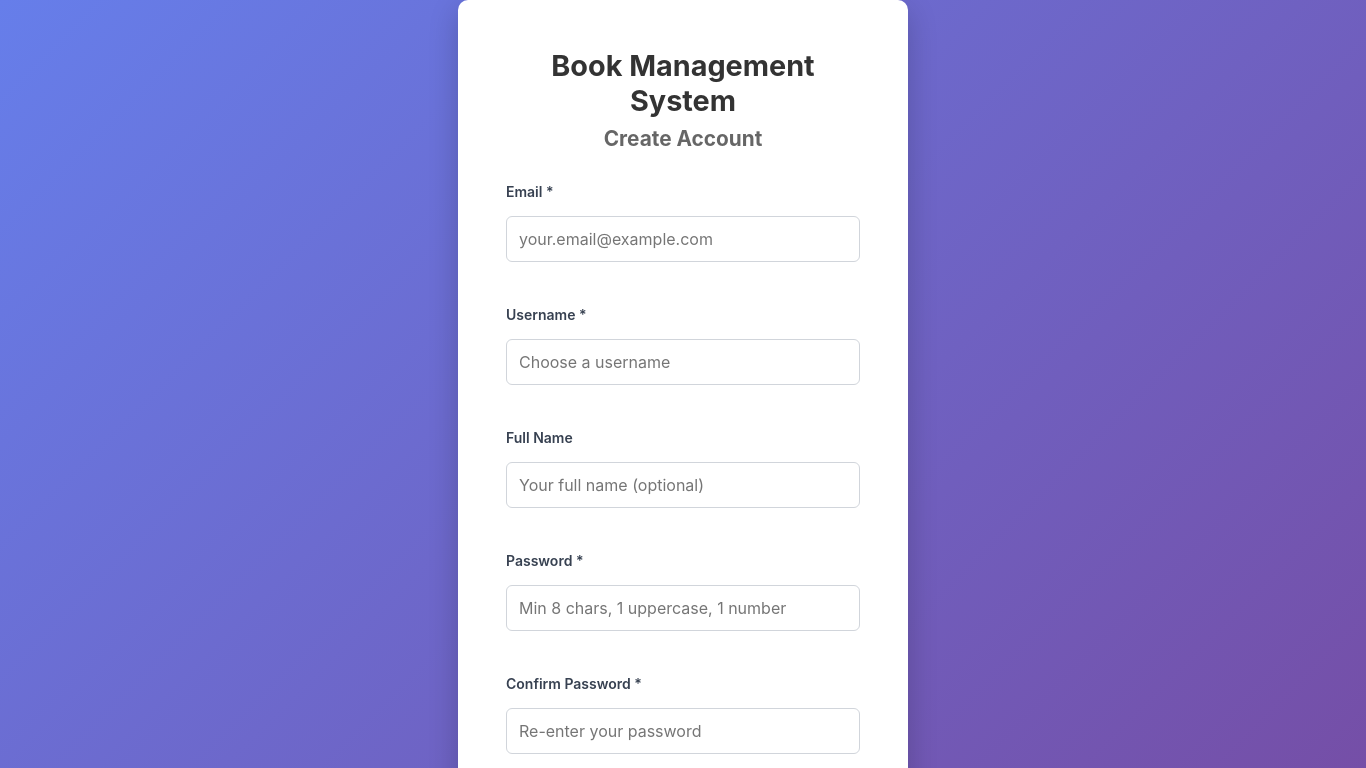
it: Register Component › should validate password length
Step 1. Type "test@example.com" into the field labelled "Email *" → {"x": 683, "y": 239}, box 506,216 -> 860,262
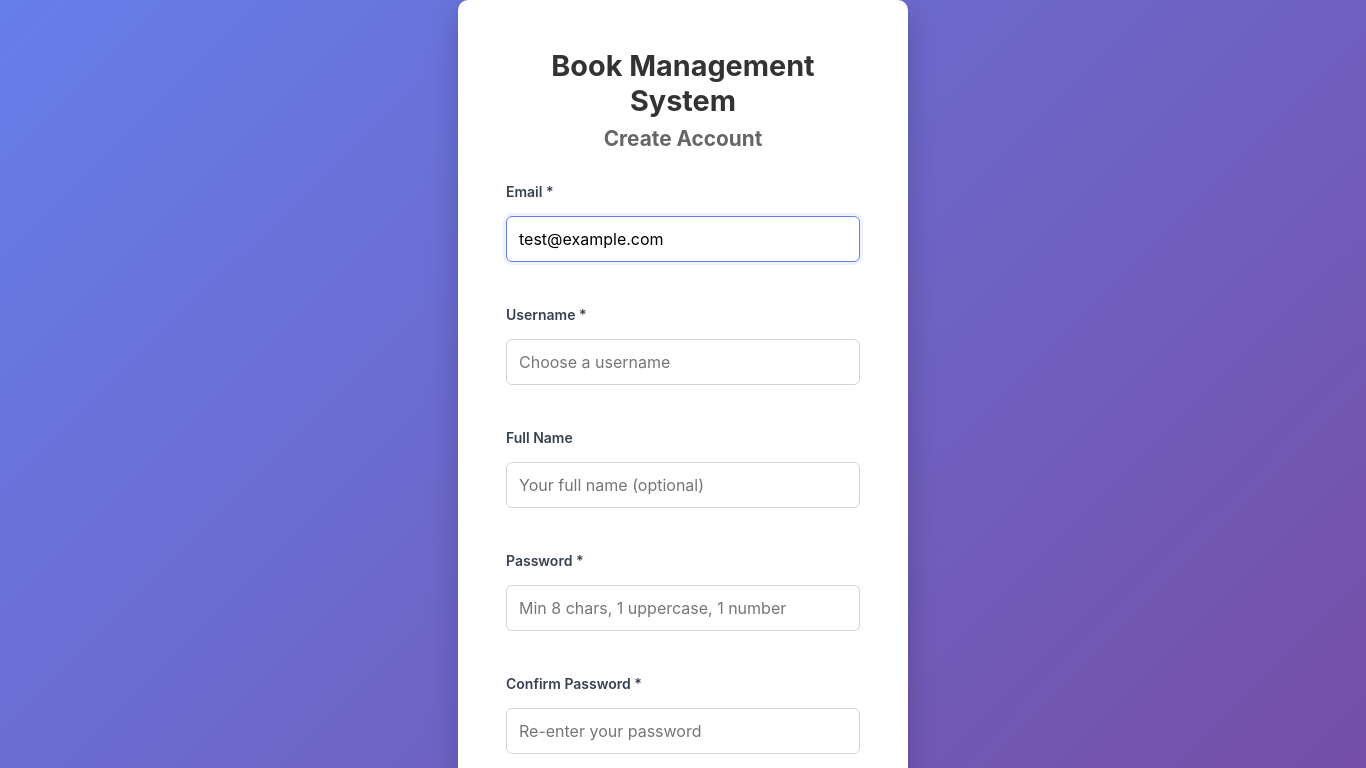
Step 2. Type "testuser" into the field labelled "Username *" → {"x": 683, "y": 362}, box 506,339 -> 860,385
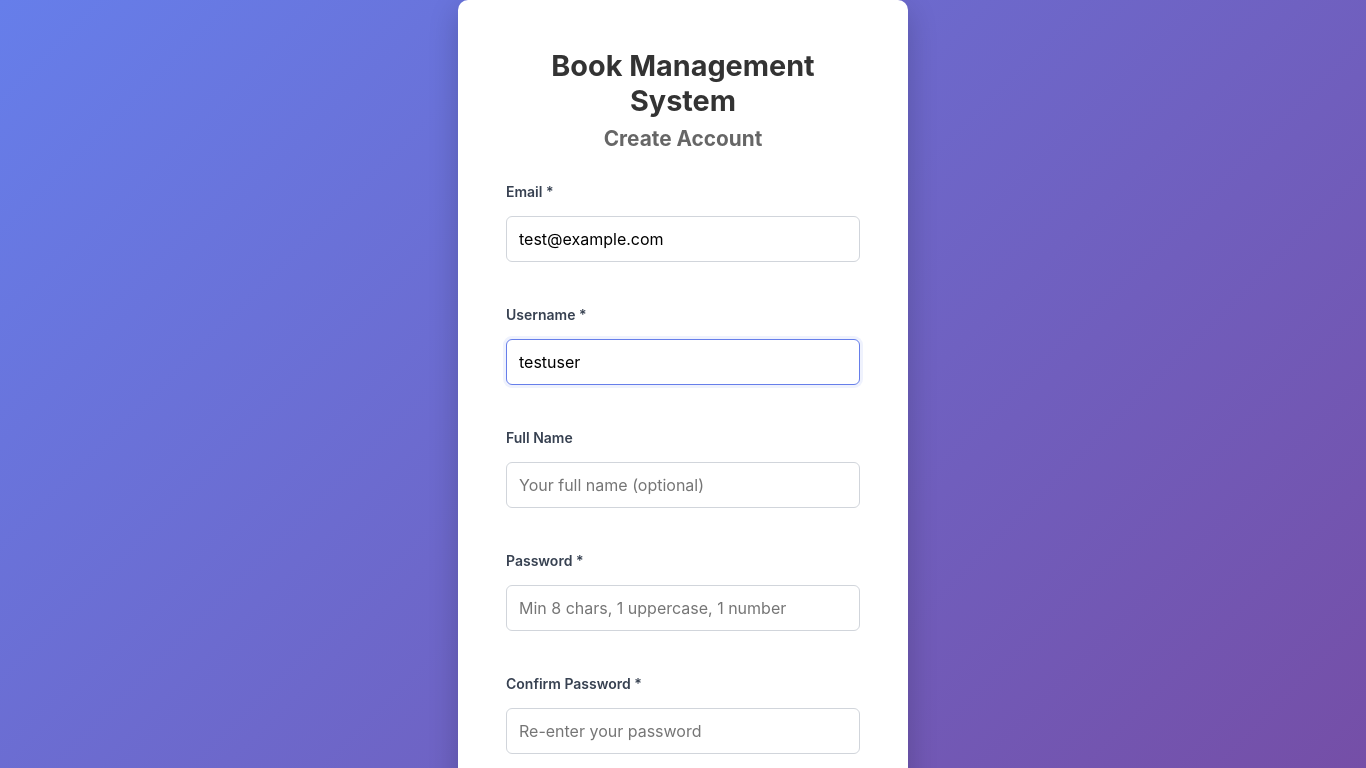
Step 3. Type "Pass1" into the password field labelled "Password *" → {"x": 683, "y": 608}, box 506,585 -> 860,631
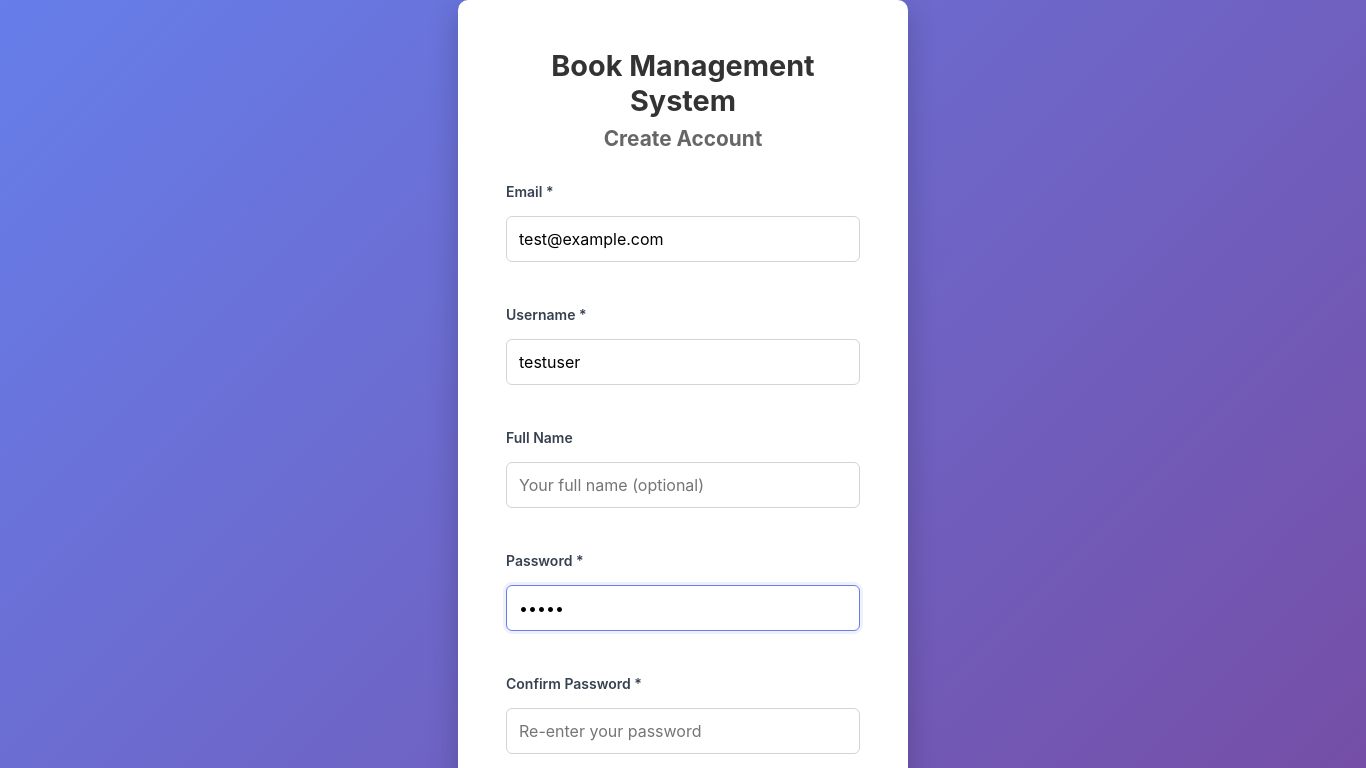
Step 4. Type "Pass1" into the password field labelled "Confirm Password *" → {"x": 683, "y": 731}, box 506,708 -> 860,754
(page scrolled)
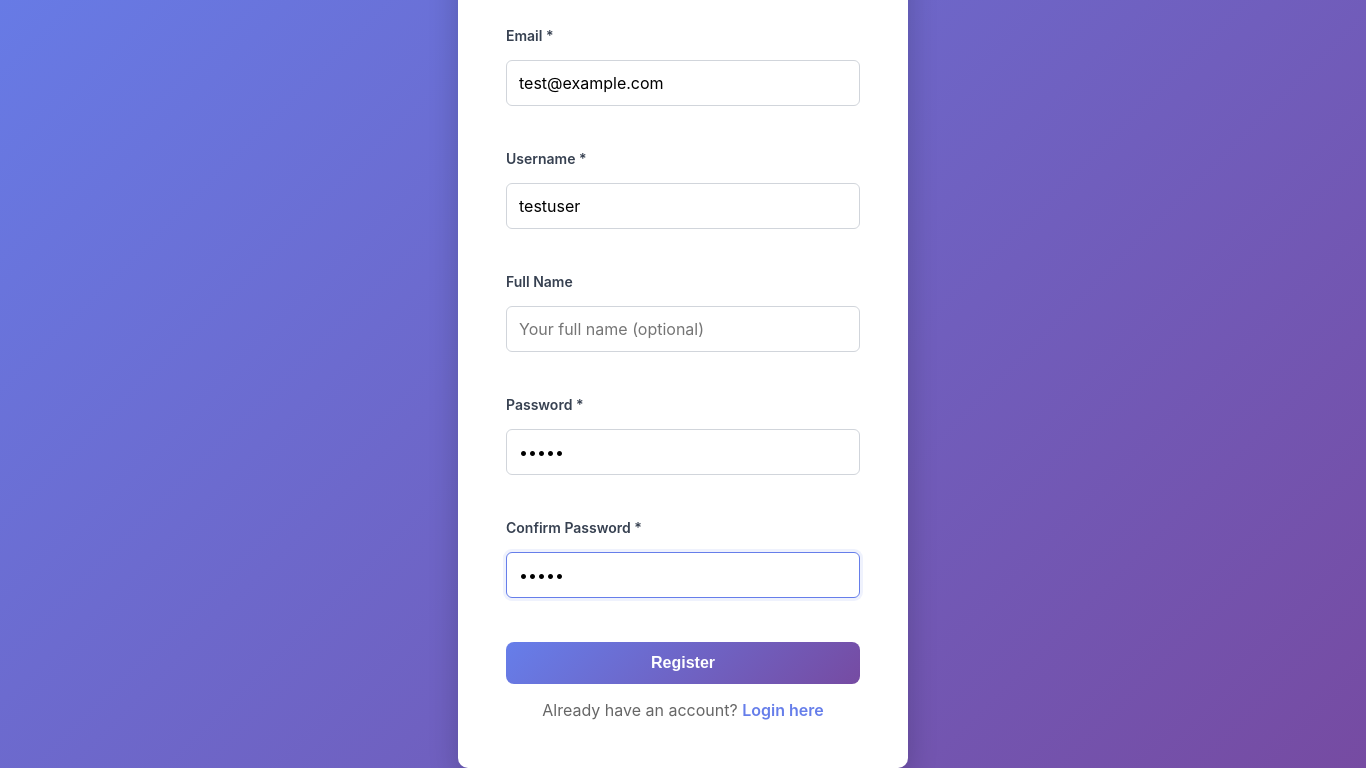
Step 5. Click the button "Register" → {"x": 683, "y": 663}, box 506,642 -> 860,684
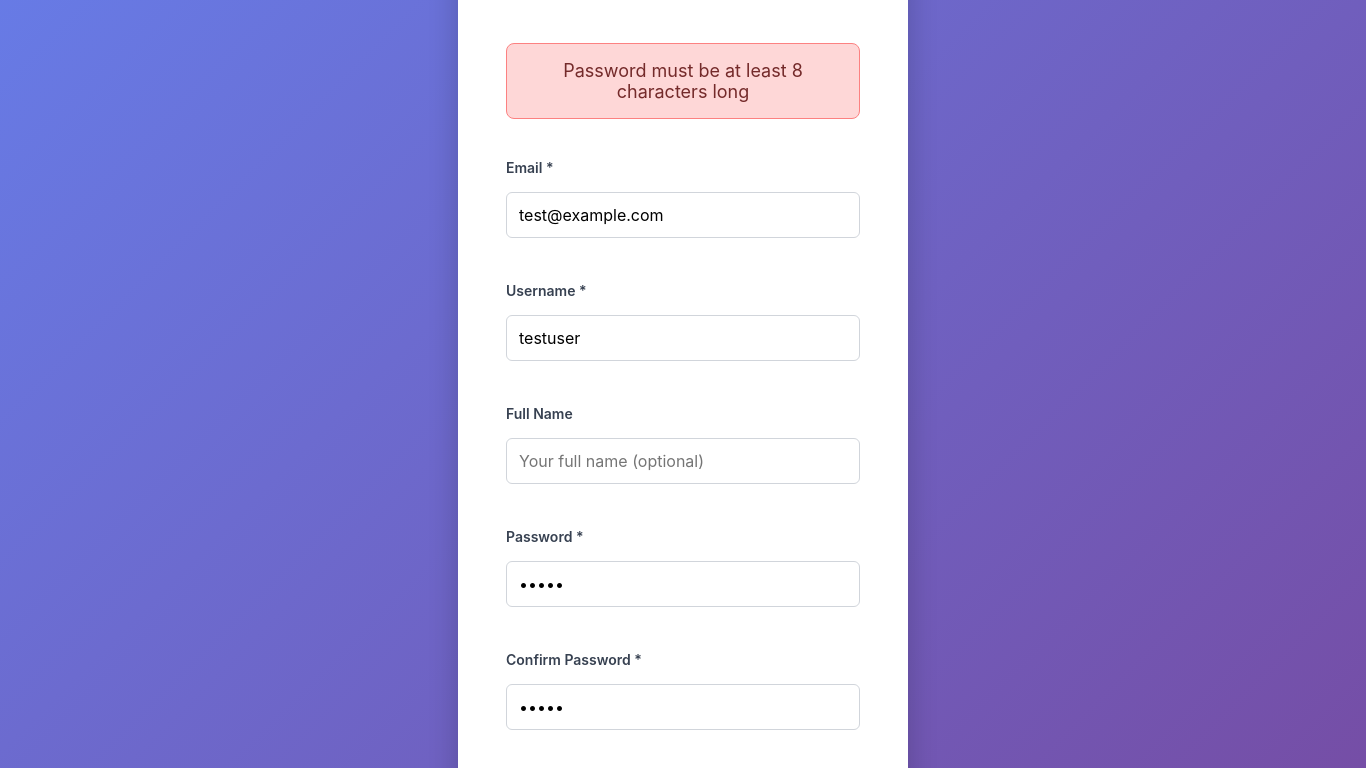
Now the text "Password must be at least 8 characters long" is shown, box 506,43 -> 860,119
